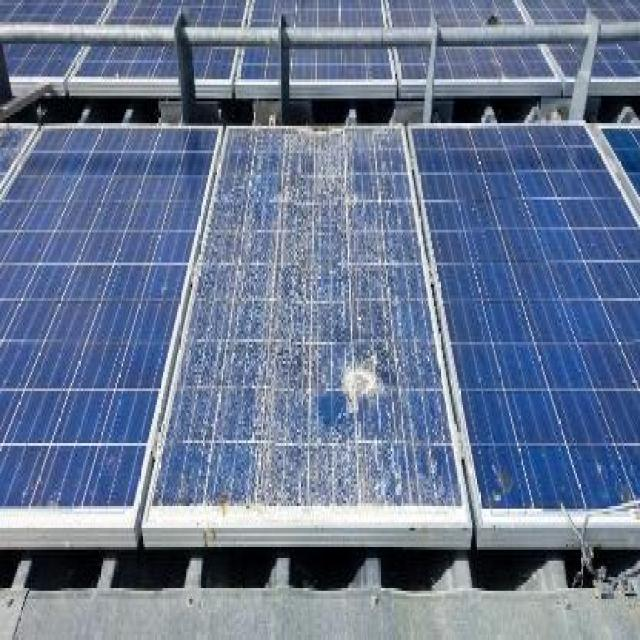cracked: (175, 131, 474, 555)
